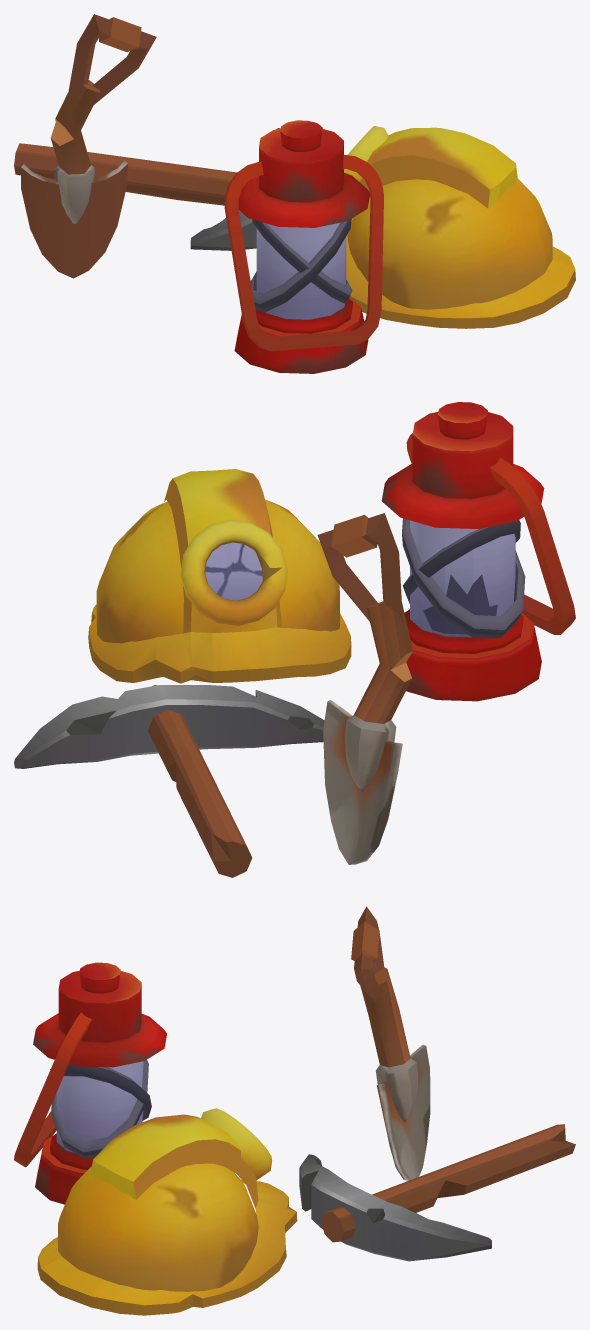
File: NPC_Miningtools_001.glb
3 views of the same model, one above another, from view 1: azimuth 30°, elevation 25°; view 2: azimuth 150°, elevation 25°; view 3: azimuth 270°, elevation 25° (orthographic). The views are drawn at different scales.
Parts seen in each view (by area): view 1: NPC_Miningtools_001_mesh; view 2: NPC_Miningtools_001_mesh; view 3: NPC_Miningtools_001_mesh.
Part boxes in pixels (bbox=[...]): NPC_Miningtools_001_mesh: bbox=[14, 14, 575, 373]; NPC_Miningtools_001_mesh: bbox=[14, 402, 575, 877]; NPC_Miningtools_001_mesh: bbox=[14, 906, 575, 1315].
Bounding box in the file's own units: 2.68 × 1.82 × 3.38.
Materials: 1 (1 with a texture image).
